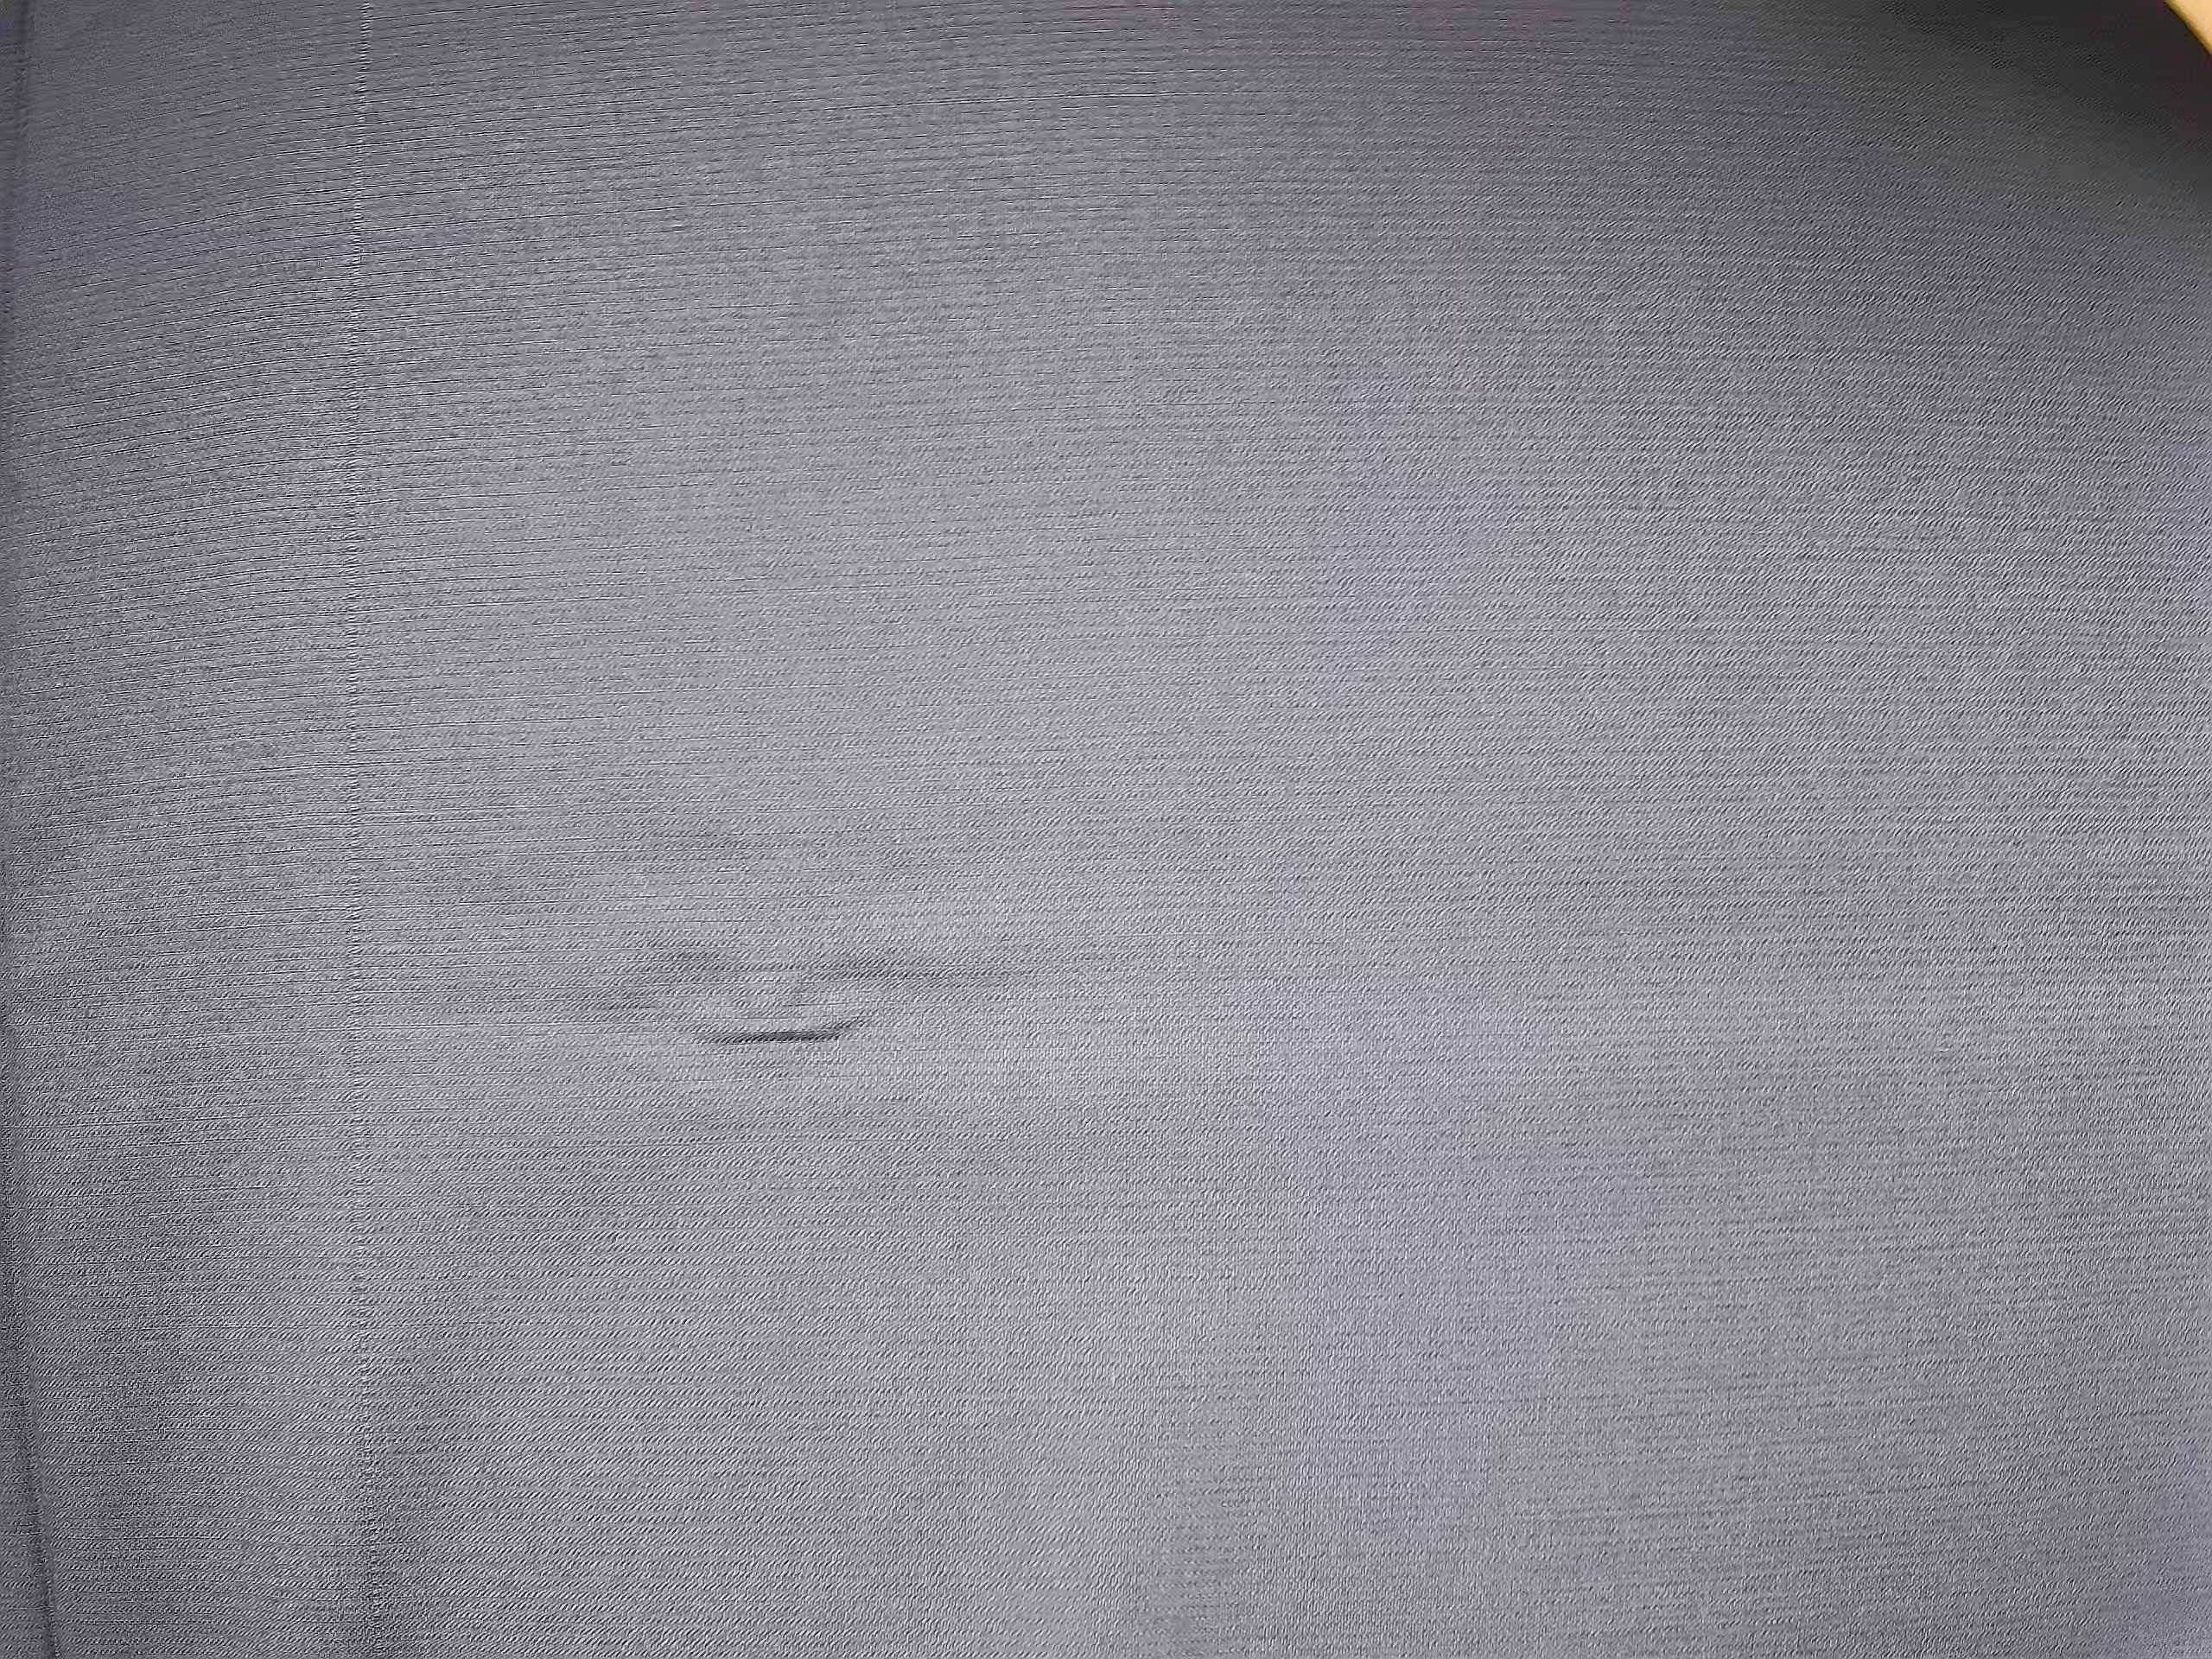lacking-warp: (331, 5, 394, 1650)
